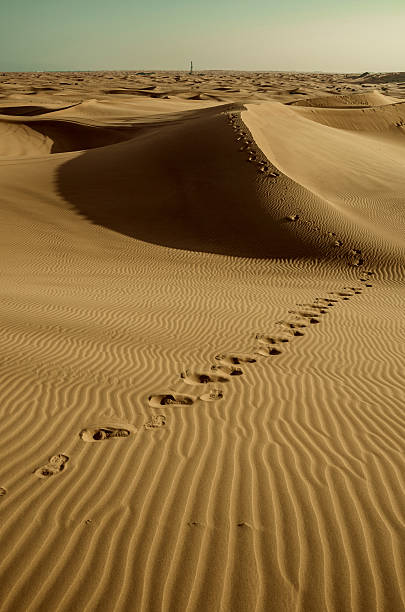animal_footprint: (79, 425, 135, 441), (34, 454, 68, 478), (180, 370, 229, 384), (148, 393, 195, 406), (255, 330, 291, 344), (215, 353, 255, 364), (289, 310, 319, 323), (276, 317, 306, 329), (211, 364, 243, 375), (144, 414, 165, 429), (297, 303, 327, 313), (199, 388, 222, 401), (256, 345, 281, 356), (314, 297, 338, 306), (334, 290, 354, 299), (344, 287, 361, 294), (284, 214, 298, 221), (333, 239, 342, 246), (0, 487, 6, 496)
